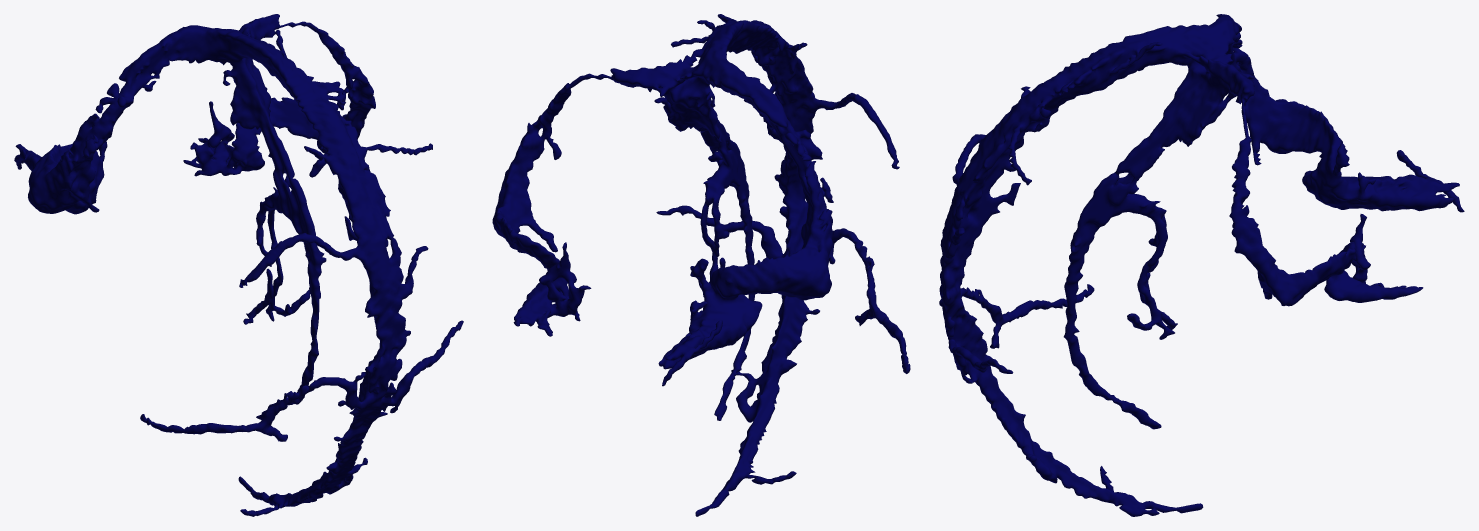
Rendered from Venous_sinus.obj.
3 renders of one model, left to right at view 1: azimuth 30°, elevation 25°; view 2: azimuth 150°, elevation 25°; view 3: azimuth 270°, elevation 25°, orthographic. The views are drawn at different scales.
Visible parts, largest first — view 1: grp1; view 2: grp1; view 3: grp1.
Part boxes in pixels (x1,y1,x2,y2): grp1: (14,14,463,516); grp1: (492,14,910,516); grp1: (939,14,1464,516).
Bounding box in the file's own units: 107 × 146 × 145.
